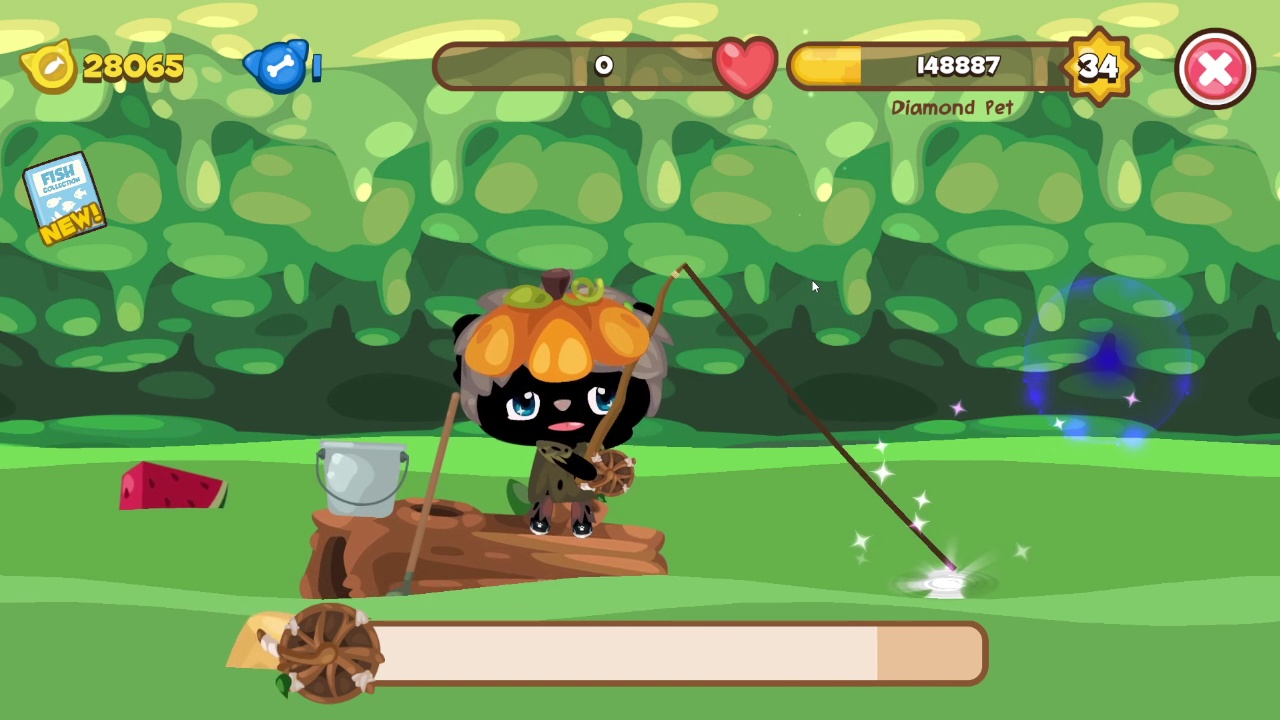point: (1021, 272, 1195, 448)
